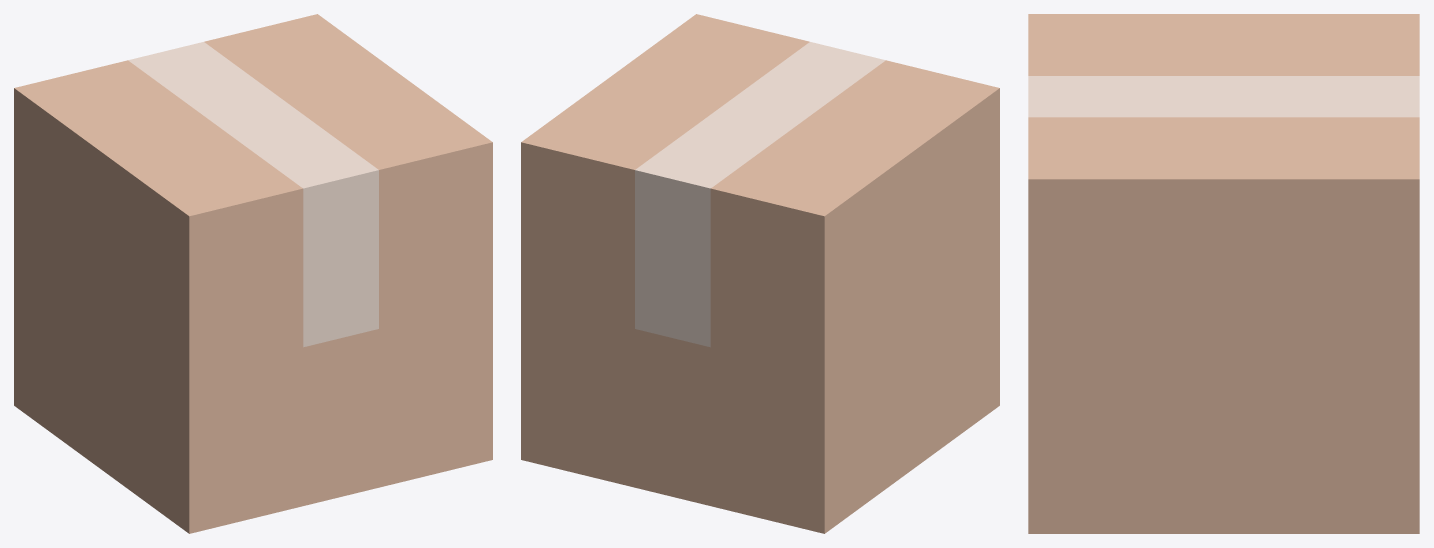
File: box-small.fbx
3 renders of one model, left to right at view 1: azimuth 30°, elevation 25°; view 2: azimuth 150°, elevation 25°; view 3: azimuth 270°, elevation 25°, orthographic. The views are drawn at different scales.
Parts seen in each view (by area): view 1: box-small; view 2: box-small; view 3: box-small.
Part boxes in pixels (box(x1,y1,x2,y2)): box-small: box(14, 14, 492, 533); box-small: box(521, 14, 999, 533); box-small: box(1028, 14, 1419, 533).
Bounding box in the file's own units: 50 × 50 × 50.
